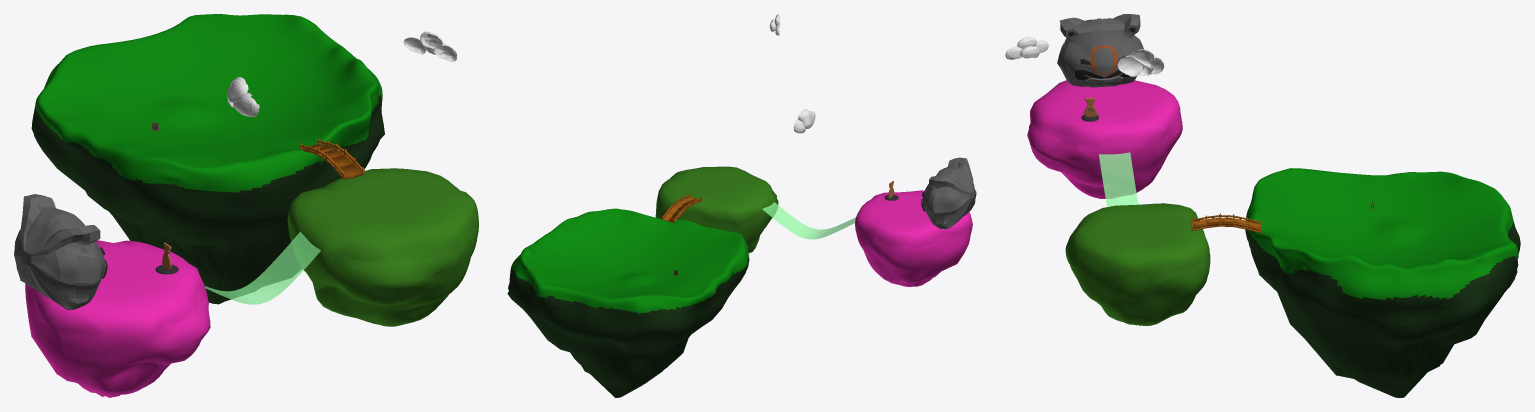
3 renders of one model, left to right at view 1: azimuth 30°, elevation 25°; view 2: azimuth 150°, elevation 25°; view 3: azimuth 270°, elevation 25°, orthographic. The views are drawn at different scales.
Parts seen in each view (by area): view 1: 立方体.001, 立方体.008, 立方体.002, 立方体.003, 平面.006, 透明湾桥, 立方体.007, 云1, 云3; view 2: 立方体.001, 立方体.002, 立方体.003, 立方体.008, 平面.006, 透明湾桥, 立方体.007; view 3: 立方体.001, 立方体.002, 立方体.008, 立方体.003, 平面.006, 透明湾桥, 云3, 立方体.007, 云1.
Boxes of the visible parts, bbox=[...] form: 立方体.001: bbox=[35, 14, 382, 192]; 立方体.008: bbox=[287, 168, 478, 326]; 立方体.002: bbox=[31, 94, 384, 304]; 立方体.003: bbox=[25, 240, 210, 397]; 平面.006: bbox=[14, 194, 107, 310]; 透明湾桥: bbox=[205, 231, 320, 304]; 立方体.007: bbox=[299, 138, 364, 179]; 云1: bbox=[403, 31, 457, 62]; 云3: bbox=[227, 77, 259, 117]; 立方体.001: bbox=[510, 208, 748, 313]; 立方体.002: bbox=[507, 257, 749, 397]; 立方体.003: bbox=[855, 190, 972, 286]; 立方体.008: bbox=[655, 166, 778, 253]; 平面.006: bbox=[921, 157, 976, 229]; 透明湾桥: bbox=[762, 202, 855, 239]; 立方体.007: bbox=[662, 194, 702, 222]; 立方体.001: bbox=[1245, 168, 1518, 299]; 立方体.002: bbox=[1245, 216, 1520, 397]; 立方体.008: bbox=[1065, 203, 1210, 325]; 立方体.003: bbox=[1027, 80, 1182, 198]; 平面.006: bbox=[1057, 14, 1143, 87]; 透明湾桥: bbox=[1099, 152, 1138, 206]; 云3: bbox=[1117, 49, 1164, 76]; 立方体.007: bbox=[1191, 213, 1261, 232]; 云1: bbox=[1005, 37, 1048, 59].
Size of the model in its own units: 19.62 by 15.96 by 21.22.
18 materials, 2 textured.
